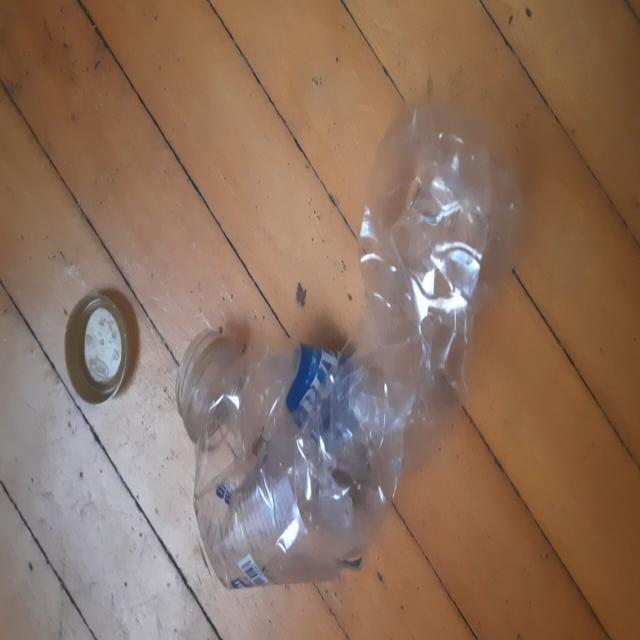Plastic: (183, 100, 519, 590)
